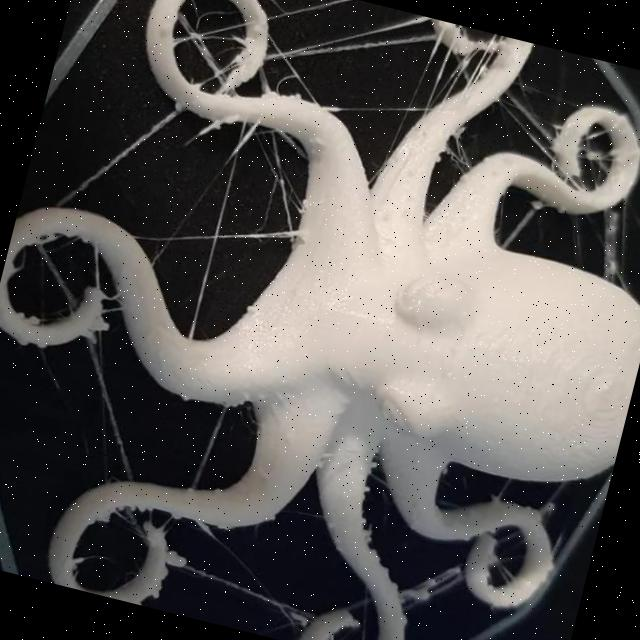stringing: (162, 550, 316, 632), (275, 12, 435, 67), (262, 139, 298, 248), (426, 41, 489, 99), (407, 562, 458, 614), (180, 17, 234, 51), (192, 40, 230, 78)
